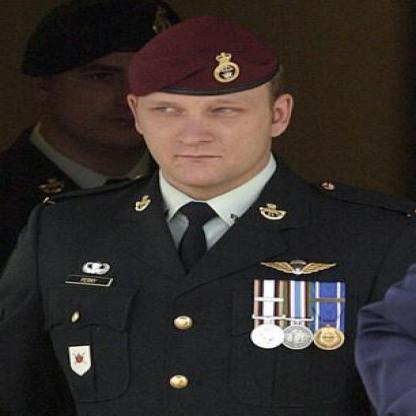face: (137, 32, 274, 190), (54, 10, 190, 153)
